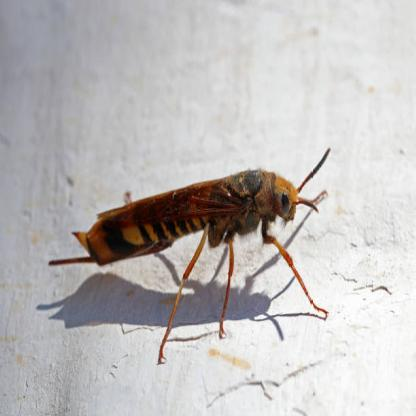sawfly: (48, 144, 336, 367)
